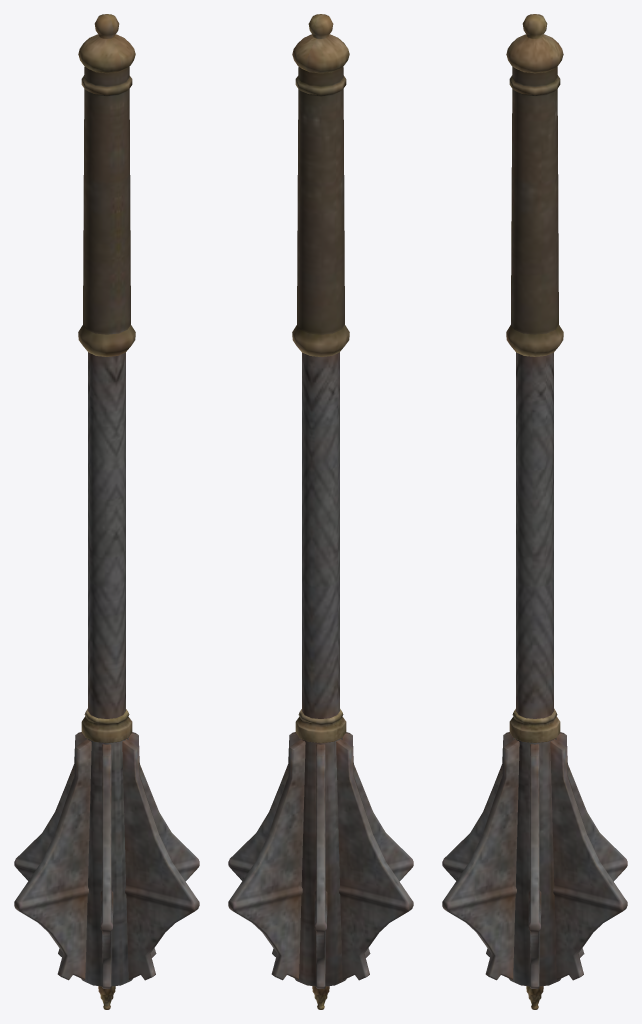
File: weapon-wp_a_0802.glb
3 renders of one model, left to right at view 1: azimuth 30°, elevation 25°; view 2: azimuth 150°, elevation 25°; view 3: azimuth 270°, elevation 25°, orthographic.
Parts seen in each view (by area): view 1: wp_a_0802_mesh; view 2: wp_a_0802_mesh; view 3: wp_a_0802_mesh.
Part boxes in pixels (bbox=[...]): wp_a_0802_mesh: bbox=[14, 14, 199, 1009]; wp_a_0802_mesh: bbox=[228, 14, 413, 1009]; wp_a_0802_mesh: bbox=[442, 14, 627, 1009].
Size of the model in its own units: 0.1734 by 0.9124 by 0.1542.
1 material, 1 textured.
